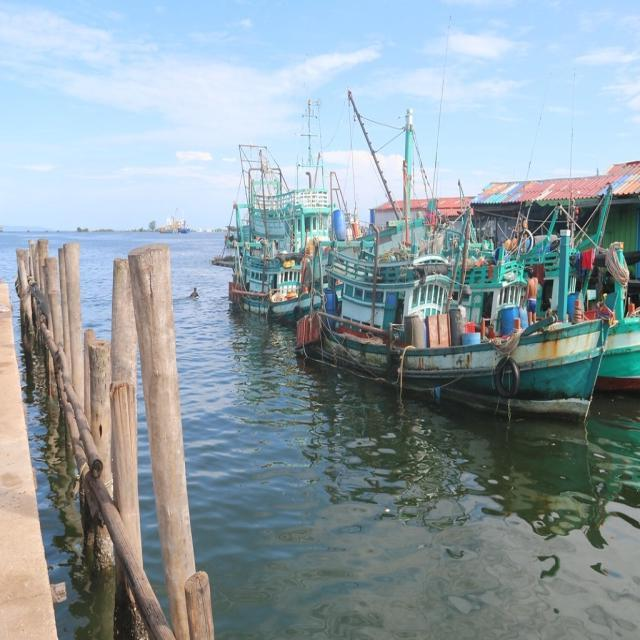boat: (288, 289, 599, 424), (177, 220, 198, 238)
